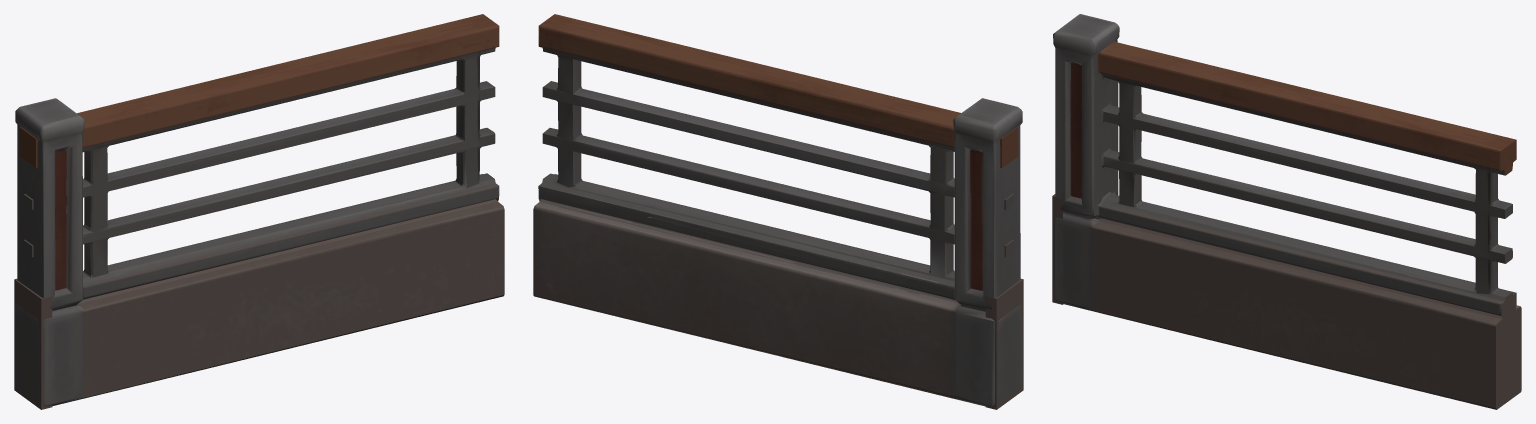
The model's file is railing.glb.
The picture shows the model from 3 angles, left to right: view 1: azimuth 30°, elevation 25°; view 2: azimuth 150°, elevation 25°; view 3: azimuth 330°, elevation 25°; orthographic projection. The views are drawn at different scales.
Parts seen in each view (by area): view 1: body; view 2: body; view 3: body.
Boxes of the visible parts, <box> form: body: <box>14,14,504,409</box>; body: <box>533,14,1023,409</box>; body: <box>1052,14,1521,409</box>.
Bounding box in the file's own units: 2 × 1.17 × 0.2142.
Materials: 1 (1 with a texture image).
